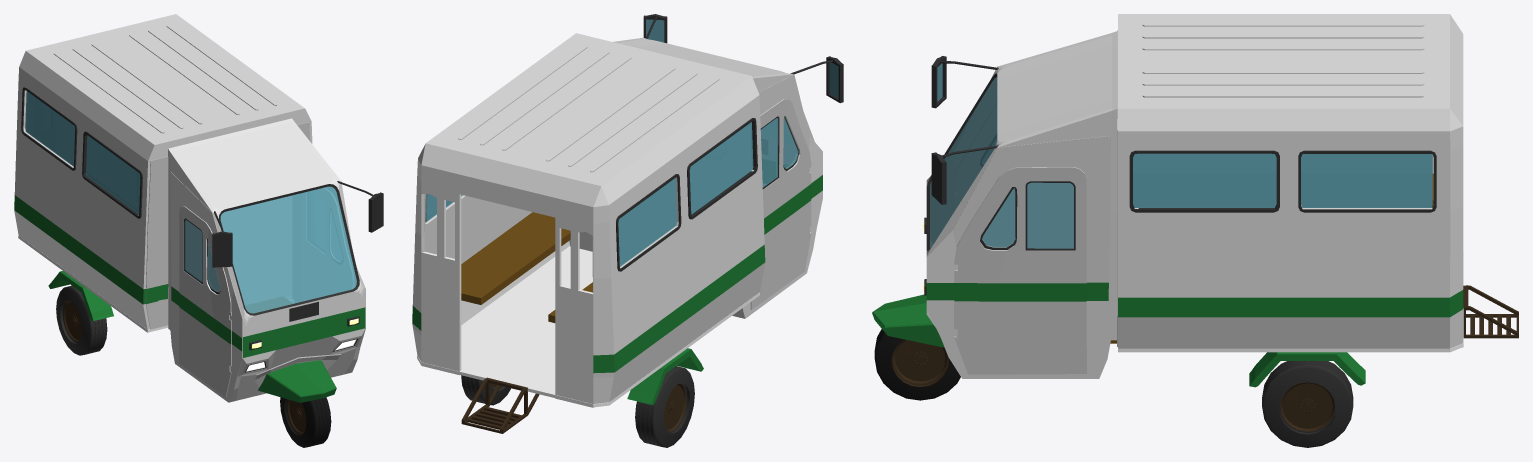
3 renders of one model, left to right at view 1: azimuth 30°, elevation 25°; view 2: azimuth 150°, elevation 25°; view 3: azimuth 270°, elevation 25°, orthographic. The views are drawn at different scales.
Parts seen in each view (by area): view 1: Front_13, Roof_2, Side_1, Front door_17, Front door frame_16, Side-1_8, Circle_6, Front.002_14, Glass_9, Glass.001_10, Circle.001_7, Mirror_21 (+4 smaller); view 2: Side_1, Roof_2, Back_4, Floor_3, Front door_17, Seat_11, Circle_6, Glass.001_10, Glass_9, Front door frame_16, Front_13, StandBack_0 (+4 smaller); view 3: Side_1, Roof_2, Front door_17, Front_13, Front door frame_16, Glass_9, Glass.001_10, Circle_6, Circle.001_7, Glass-2_19, Front.002_14, Mirror_21 (+4 smaller).
Boxes of the visible parts, x1,y1,x2,y2 form: Front_13: (168,118,365,402); Roof_2: (19,14,311,161); Side_1: (14,67,312,329); Front door_17: (179,206,231,397); Front door frame_16: (170,171,365,402); Side-1_8: (145,122,310,329); Circle_6: (56,285,107,355); Front.002_14: (258,360,336,402); Glass_9: (86,135,140,214); Glass.001_10: (25,91,75,166); Circle.001_7: (280,397,331,447); Mirror_21: (212,181,383,267); Side_1: (412,95,765,403); Roof_2: (418,33,759,207); Back_4: (421,165,593,407); Floor_3: (417,246,759,407); Front door_17: (750,99,811,309); Seat_11: (461,212,592,322); Circle_6: (461,366,694,447); Glass.001_10: (426,178,677,266); Glass_9: (689,122,753,214); Front door frame_16: (742,74,822,318); Front_13: (613,37,814,318); StandBack_0: (461,377,539,433); Side_1: (1118,126,1463,348); Roof_2: (1118,14,1463,131); Front door_17: (954,167,1086,374); Front_13: (924,31,1117,340); Front door frame_16: (926,66,1110,378); Glass_9: (1133,153,1276,207); Glass.001_10: (1301,154,1432,207); Circle_6: (1262,361,1353,447); Circle.001_7: (874,329,960,400); Glass-2_19: (1027,182,1073,248); Front.002_14: (872,294,944,347); Mirror_21: (931,56,998,204).
Bounding box in the file's own units: 1.34 × 1.92 × 3.35.
